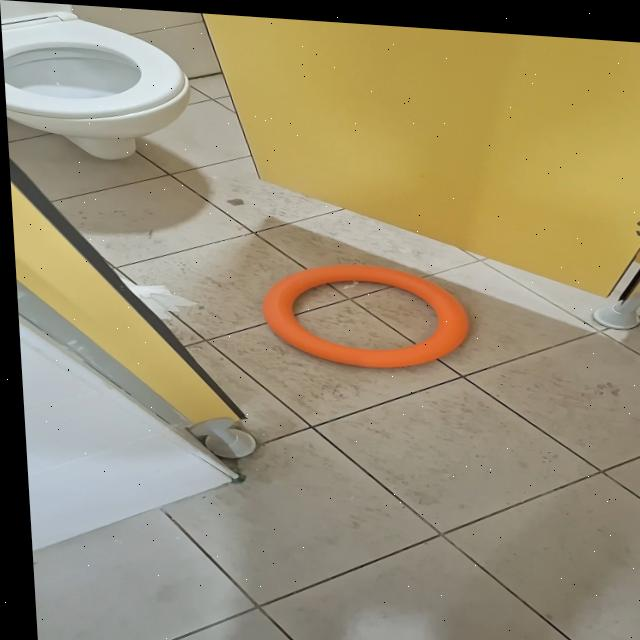note: (255, 253, 470, 369)
